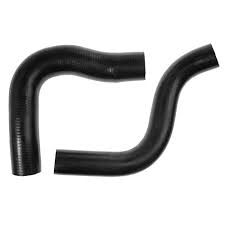radiator_hose: (54, 44, 219, 171), (11, 45, 145, 179)
